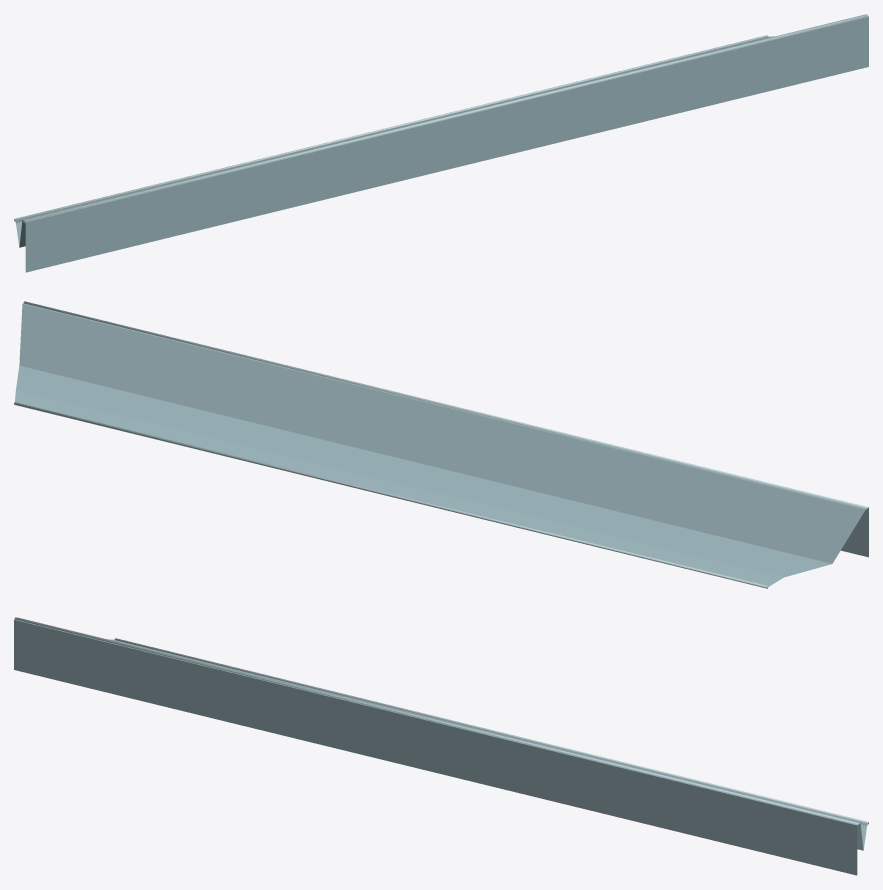
Rendered from goal.glb.
The picture shows the model from 3 angles, top to bottom: view 1: azimuth 30°, elevation 25°; view 2: azimuth 150°, elevation 25°; view 3: azimuth 330°, elevation 25°; orthographic projection.
Visible parts, largest first — view 1: Trough goal, Rear folded edge, Entry lip; view 2: Trough goal, Entry lip, Rear folded edge; view 3: Trough goal, Rear folded edge, Entry lip.
Boxes of the visible parts, x1,y1,x2,y2 form: Trough goal: (15,14,868,272); Rear folded edge: (23,14,868,223); Entry lip: (14,35,768,221); Trough goal: (15,303,868,586); Entry lip: (14,402,768,588); Rear folded edge: (23,301,868,510); Trough goal: (14,617,867,875); Rear folded edge: (14,617,859,826); Entry lip: (114,638,868,824).
Size of the model in its own units: 3.36 by 0.2 by 0.393.
